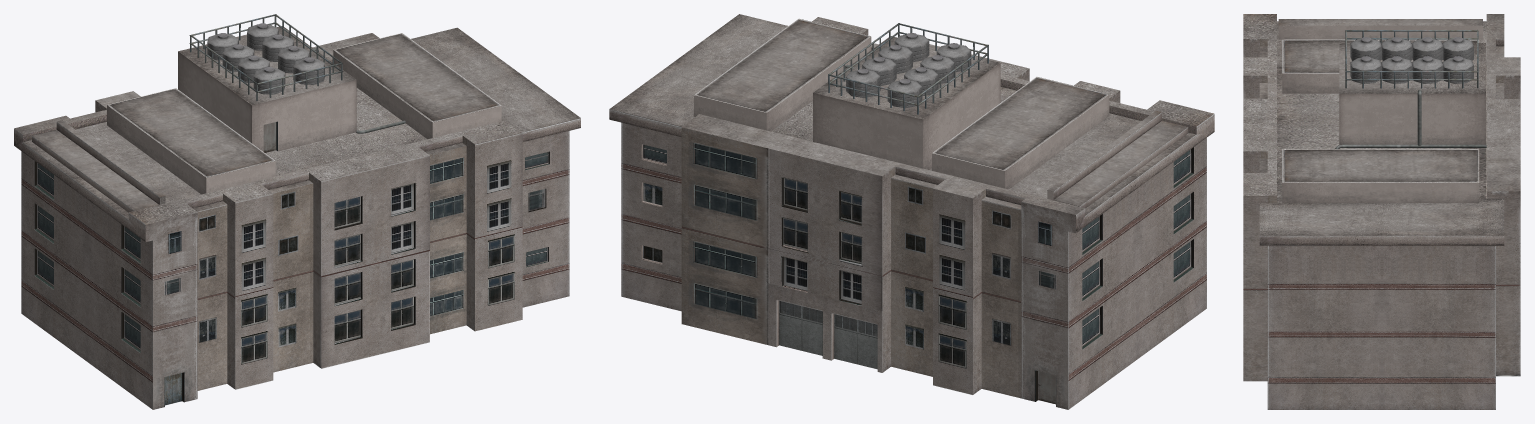
Rendered from buildings_09.FBX.
3 views of the same model, side by side, from view 1: azimuth 30°, elevation 25°; view 2: azimuth 150°, elevation 25°; view 3: azimuth 270°, elevation 25° (orthographic). The views are drawn at different scales.
Parts seen in each view (by area): view 1: Object015; view 2: Object015; view 3: Object015.
Part boxes in pixels (<box>): Object015: <box>14,14,580,409</box>; Object015: <box>609,14,1214,409</box>; Object015: <box>1243,14,1520,409</box>.
Bounding box in the file's own units: 3100 × 1695 × 1684.
Materials: 1 (1 with a texture image).
